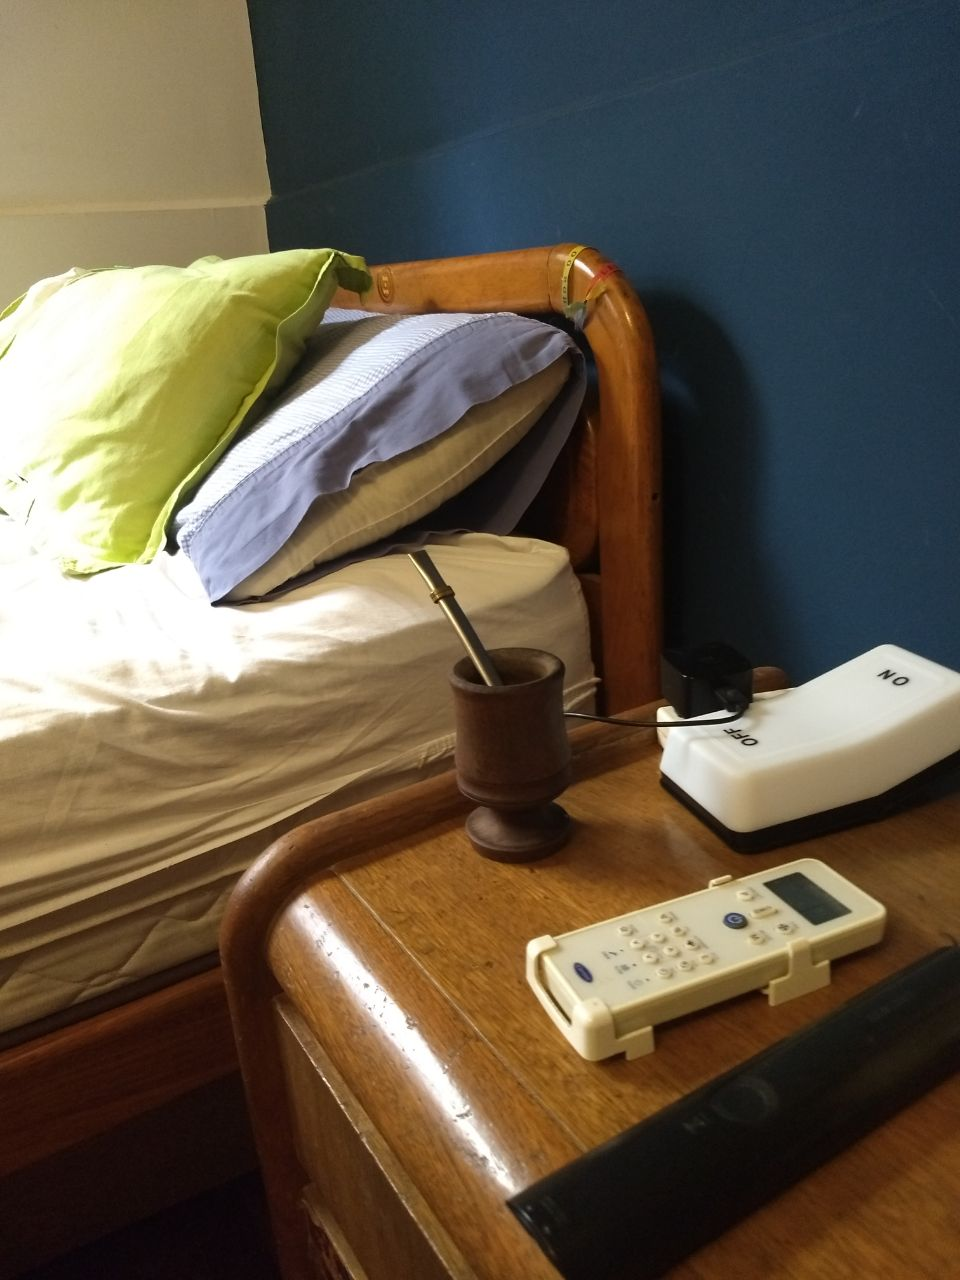madera: (403, 544, 582, 868)
mate: (405, 546, 584, 870)
